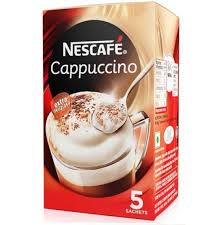nescafe-cappe-big: (43, 1, 180, 211)
